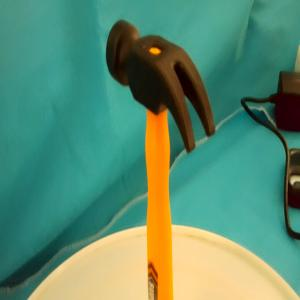martelo: (103, 16, 216, 300)
